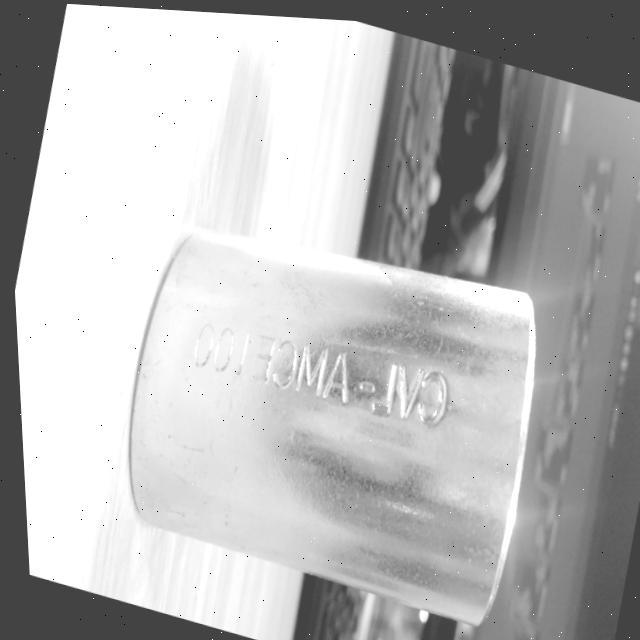Co_Nho: (101, 220, 558, 627)
